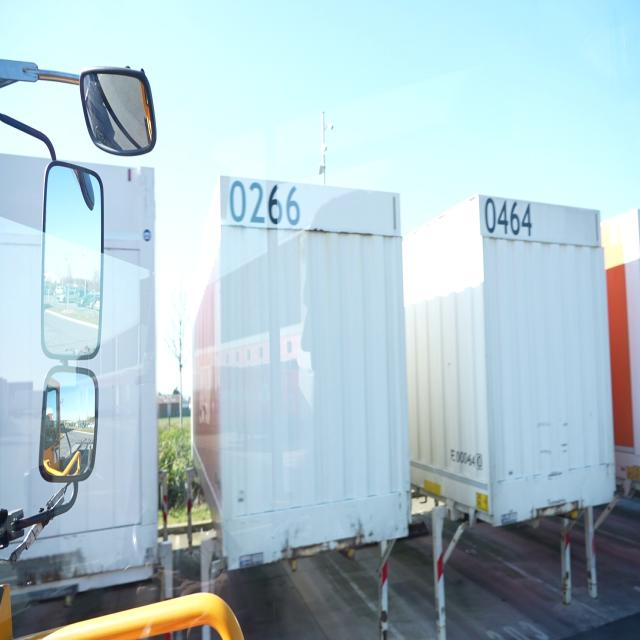Code: (228, 175, 301, 231), (483, 195, 535, 245)
